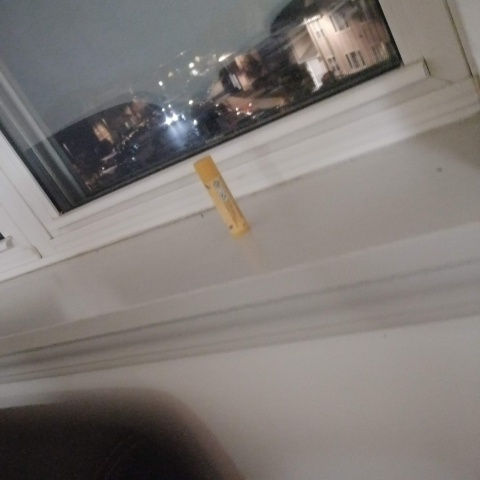chapstick: (191, 154, 251, 241)
